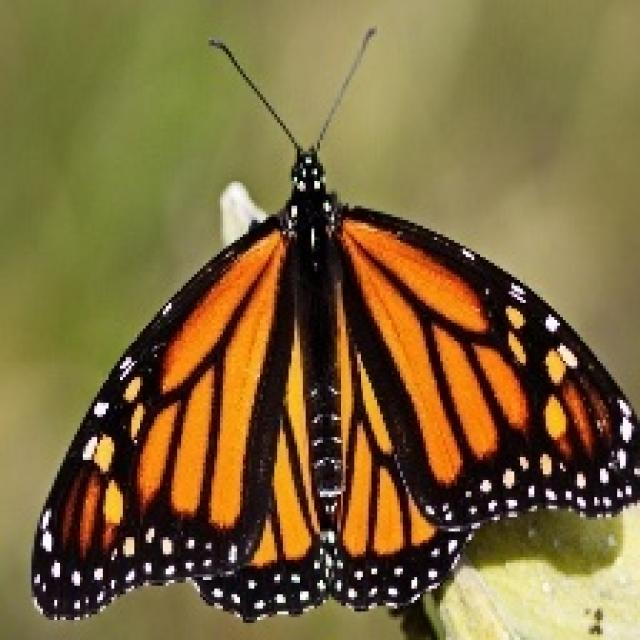butterfly: (29, 23, 637, 623)
